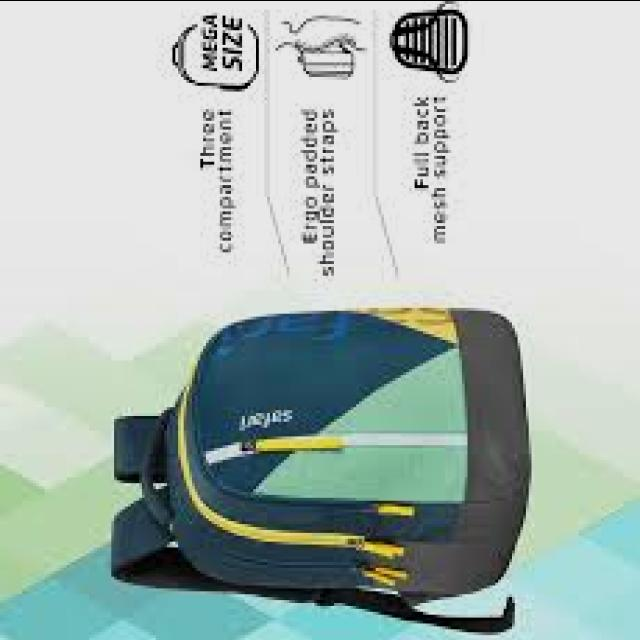backpack: (110, 308, 533, 636)
